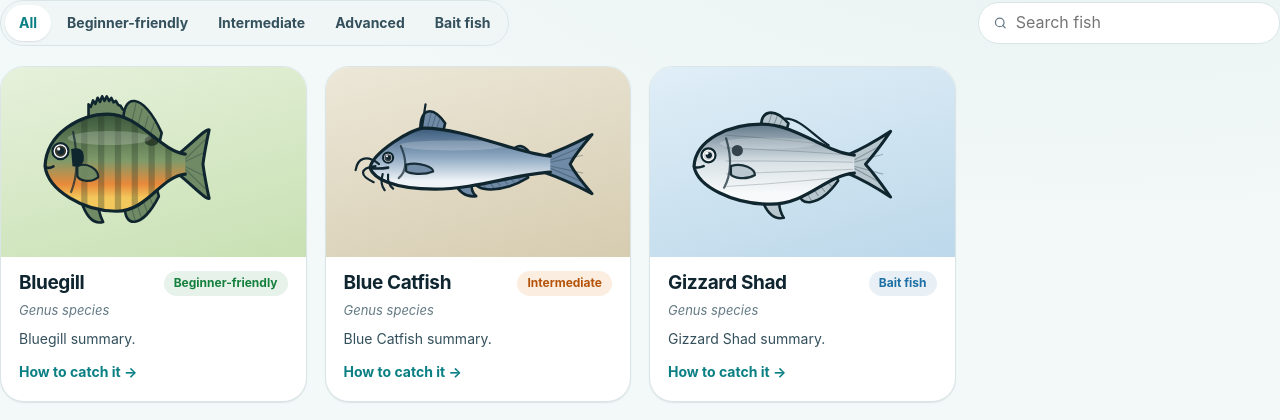
Test: FishGrid › searches by name and says so when nothing matches
In the field labelled "Search fish": (1140, 23) [1016,10,1265,35], type "cat"
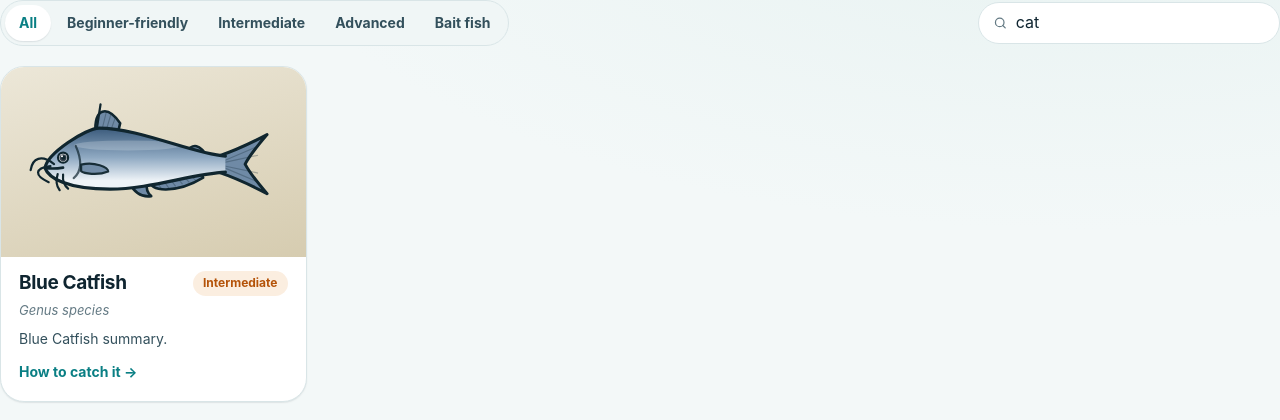
Check: the heading "Blue Catfish" is shown, box [19,272,127,294]
Check: the link "Bluegill" is gone
Replace the text in the field named "Search fish" with "shark": (1140, 23) [1016,10,1265,35]
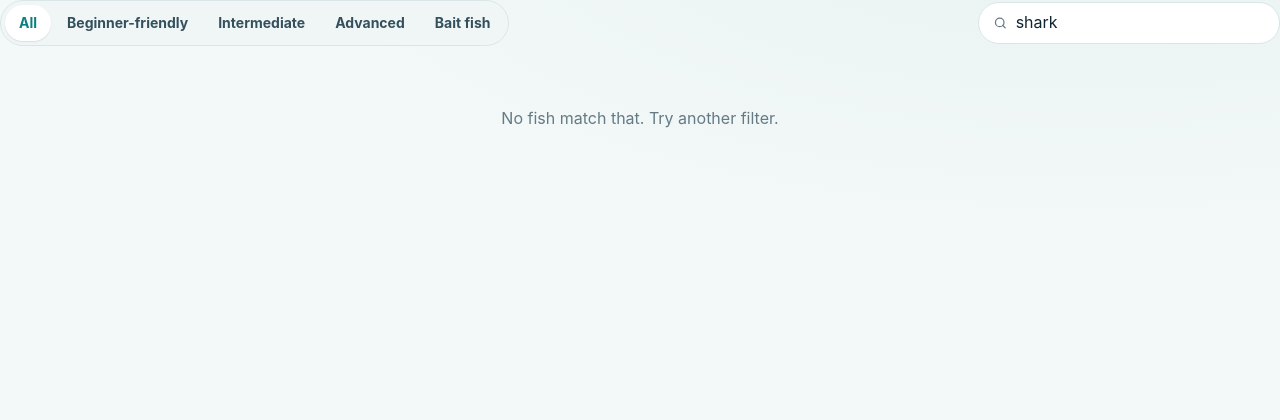
Check: the text "No fish match that. Try another filter." is shown, box [501,108,779,128]
